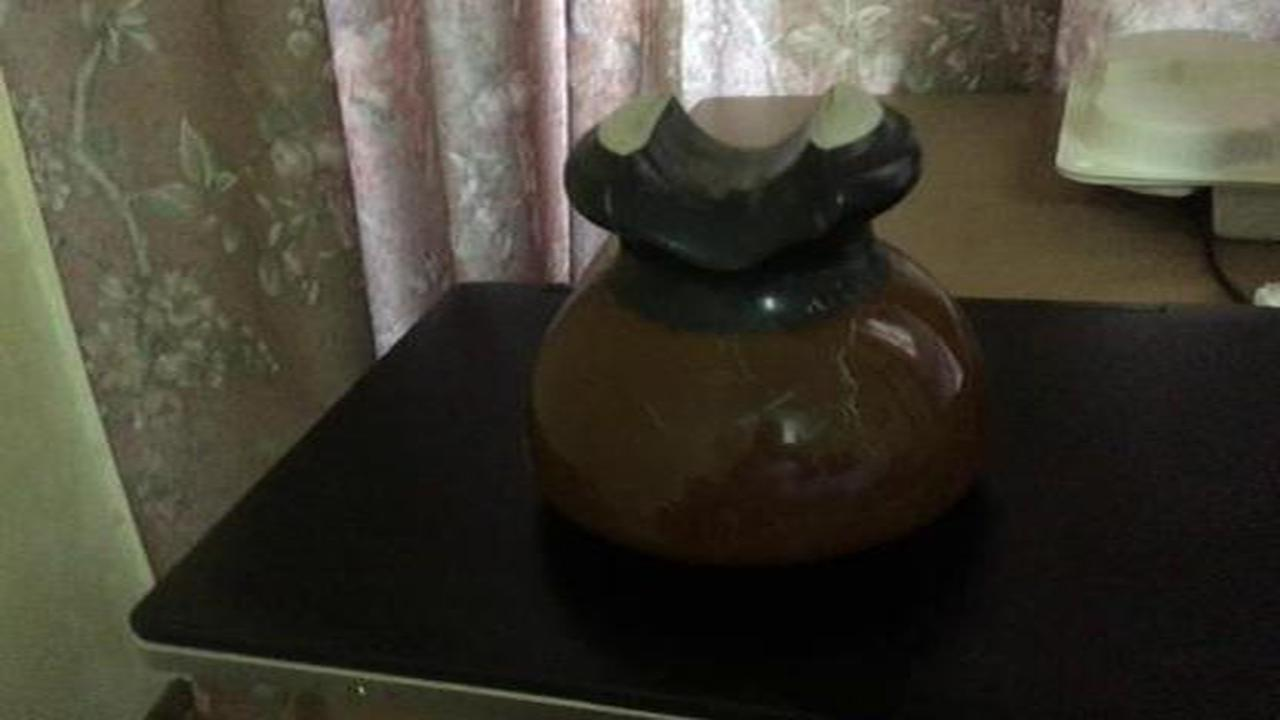insulator_pin: (502, 77, 1037, 584)
